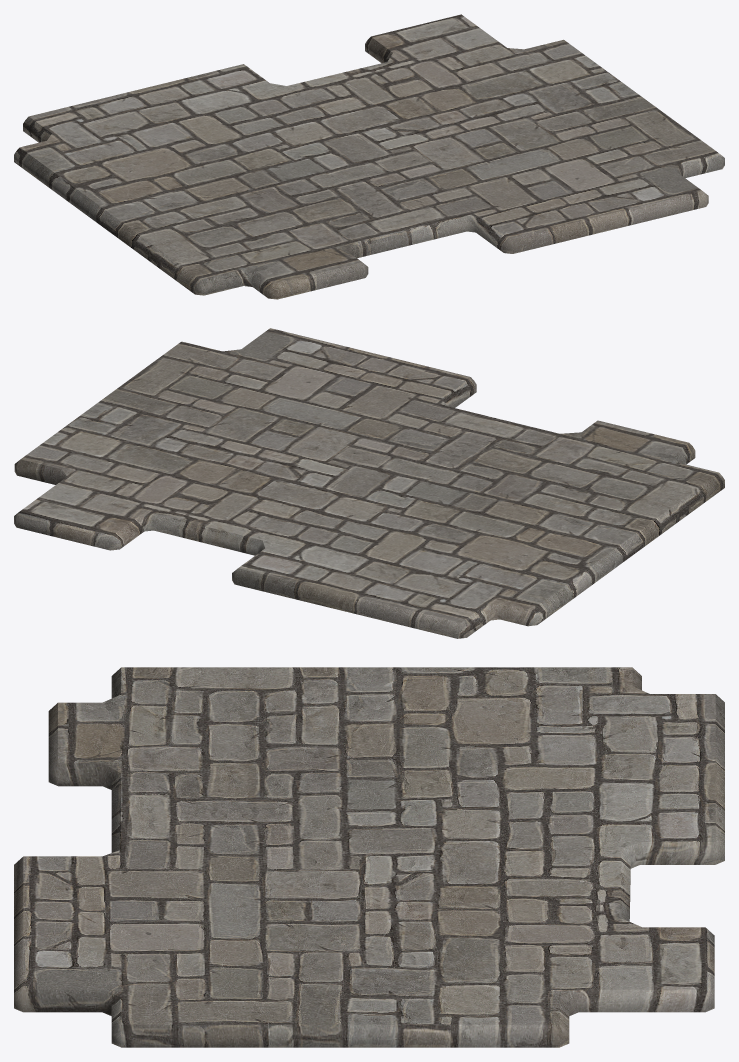
Rendered from modelFloor.fbx.
3 renders of one model, top to bottom at view 1: azimuth 30°, elevation 25°; view 2: azimuth 150°, elevation 25°; view 3: azimuth 270°, elevation 25°, orthographic. The views are drawn at different scales.
Parts seen in each view (by area): view 1: modelFloor; view 2: modelFloor; view 3: modelFloor.
Part boxes in pixels (x1,y1,x2,y2): modelFloor: (14, 14, 724, 299); modelFloor: (14, 328, 724, 638); modelFloor: (14, 667, 724, 1047).
Size of the model in its own units: 104 by 2.51 by 85.92.
